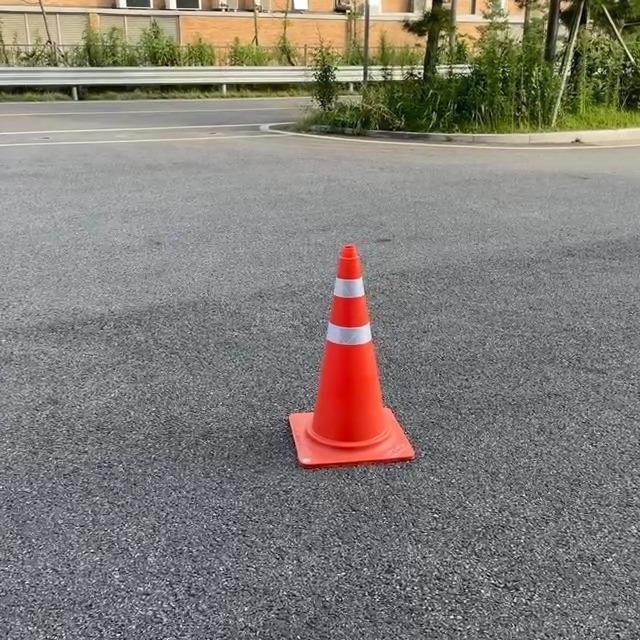fallen_object: (273, 235, 488, 483)
